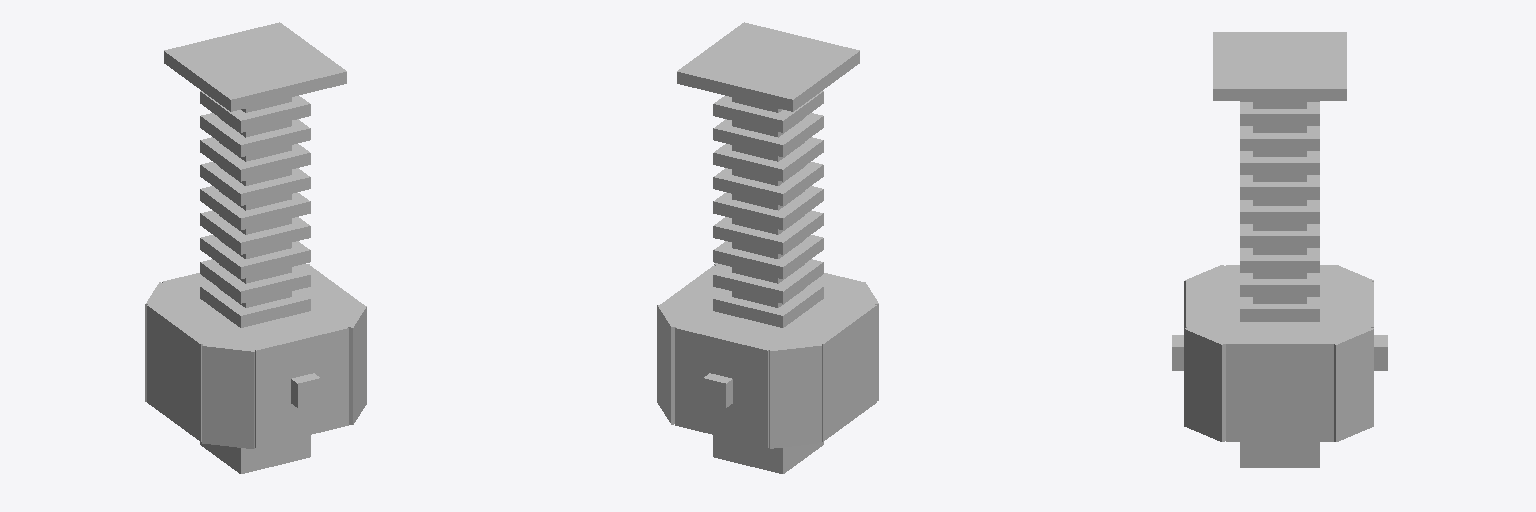
The model's file is potenciometro.obj.
The picture shows the model from 3 angles: view 1: azimuth 30°, elevation 25°; view 2: azimuth 150°, elevation 25°; view 3: azimuth 270°, elevation 25°; orthographic projection.
Parts seen in each view (by area): view 1: cube, block, e; view 2: cube, block, s; view 3: cube, block.
Boxes of the visible parts, x1,y1,x2,y2 form: cube: [145, 22, 366, 473]; block: [147, 97, 363, 441]; e: [291, 373, 320, 407]; cube: [657, 22, 878, 473]; block: [660, 97, 876, 441]; s: [703, 373, 732, 407]; cube: [1184, 32, 1373, 467]; block: [1226, 102, 1333, 441].
Bounding box in the file's own units: 0.8839 × 2 × 1.